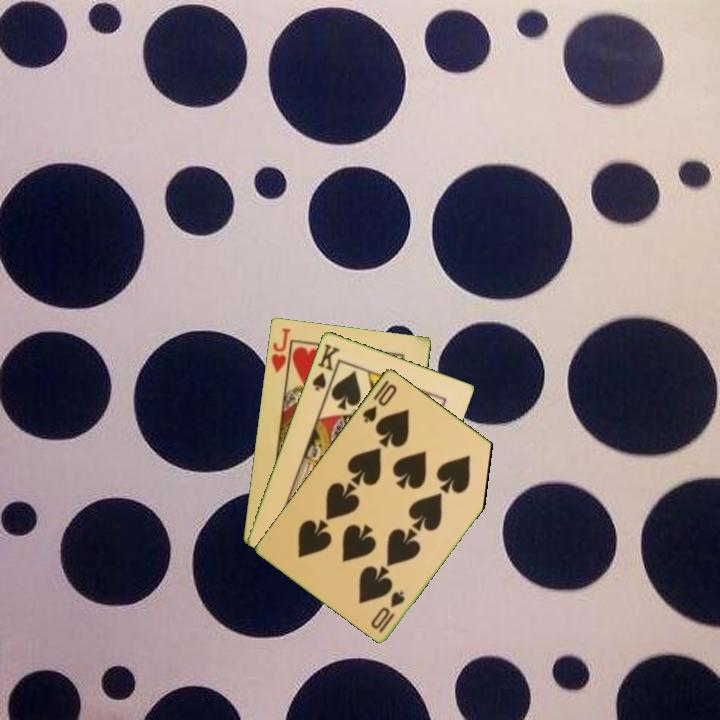10s: (367, 587, 408, 635), (359, 380, 400, 425)
Jh: (267, 324, 293, 376)
Ks: (308, 340, 343, 393)
